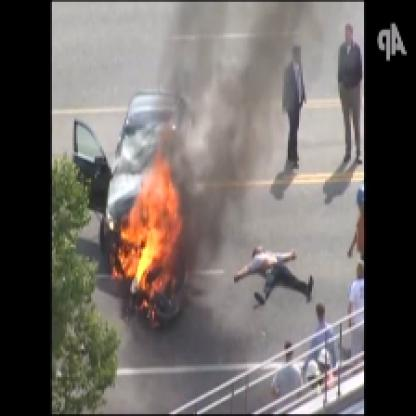Fire: (111, 122, 199, 316)
Smoke: (176, 4, 301, 262)
